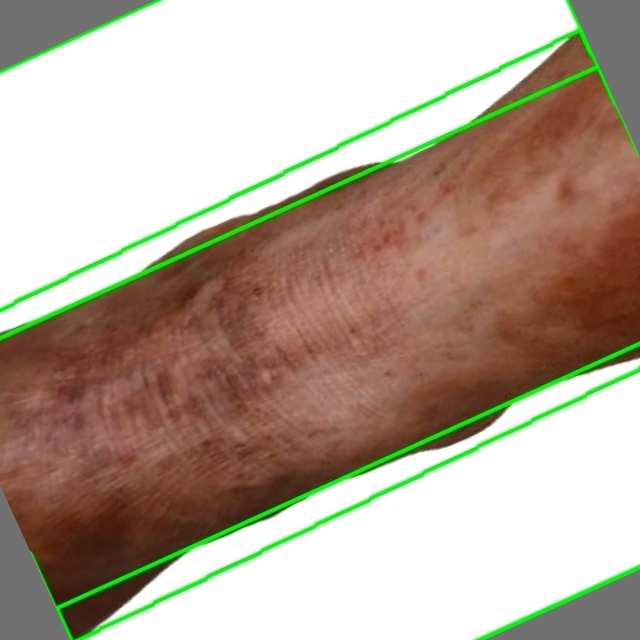Eczema: (0, 30, 639, 639), (0, 0, 598, 339), (57, 345, 639, 639)
